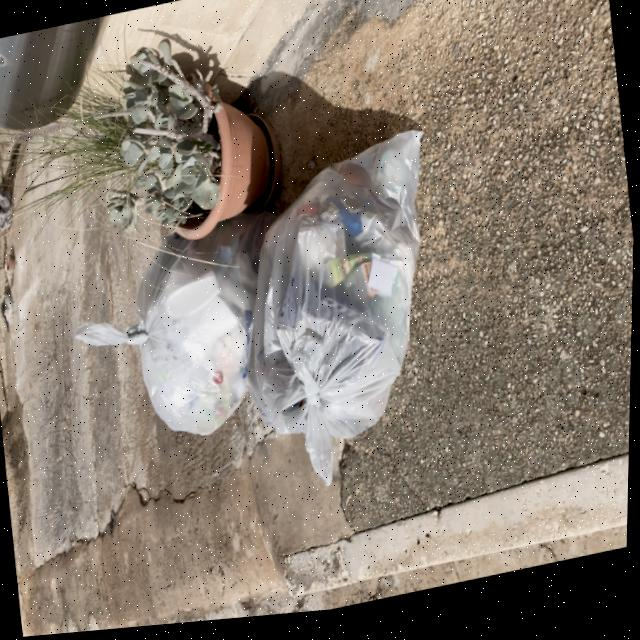Other: (1, 184, 21, 241)
Recycled Waste -Grey or Green Bag-: (222, 119, 476, 510), (56, 219, 291, 475)
